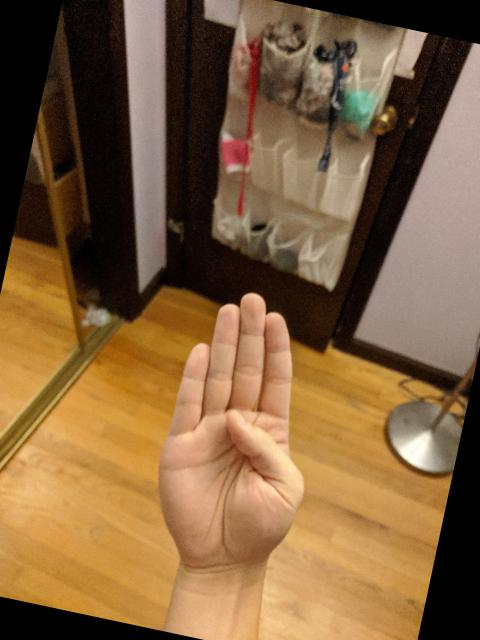B: (134, 276, 350, 596)
